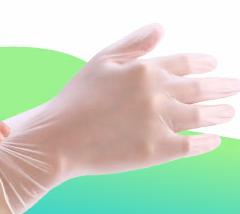gloves: (0, 23, 235, 212)
